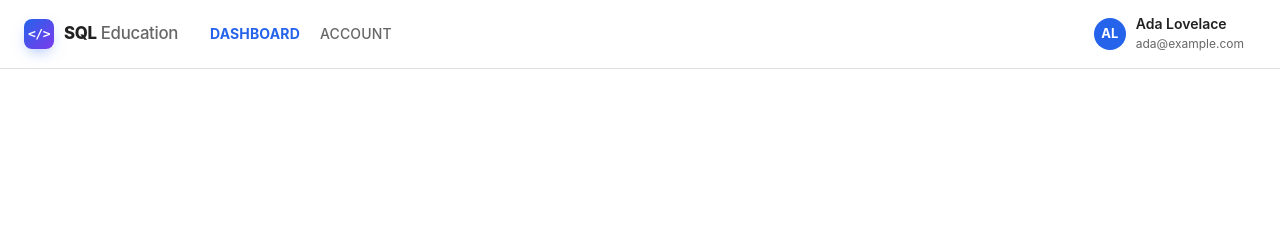
Test: AppNav › opens the account menu on click
This screenshot has width=1280, height=247.
Click the button with aria-label "account menu". click: point(1171, 34)
box: [1086,8,1256,60]
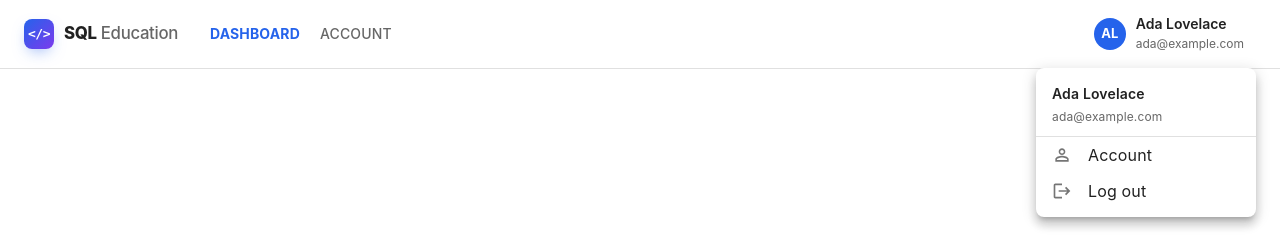
Expected: the menu item "Log out" is shown, [1052,181,1146,201]
